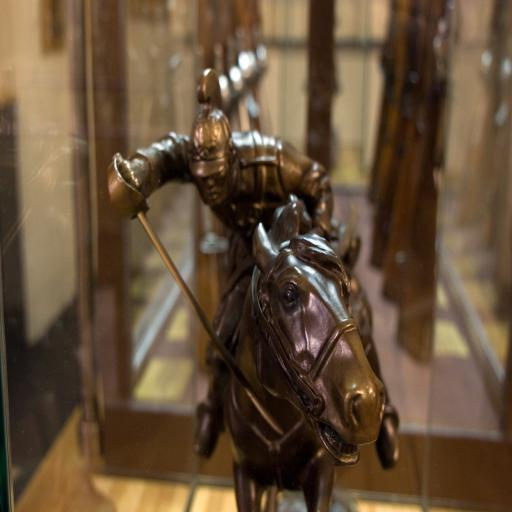horse: (220, 196, 388, 512)
